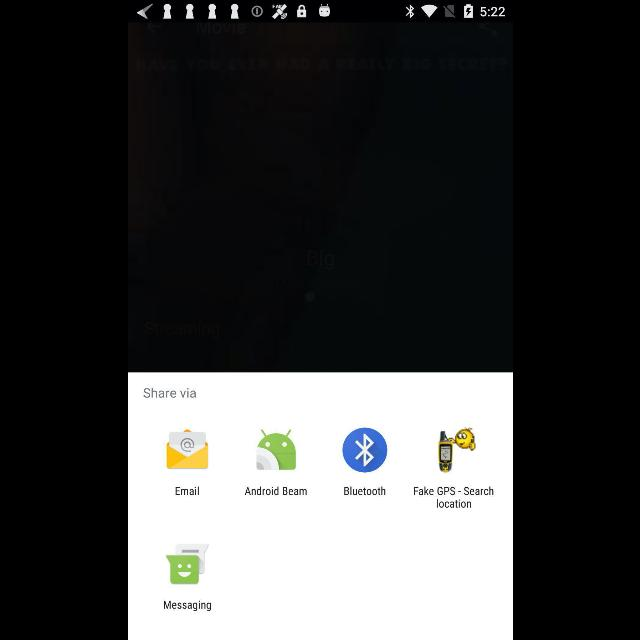icon: (342, 428, 386, 472)
image: (166, 542, 208, 584), (437, 427, 475, 473), (166, 429, 208, 469), (256, 430, 294, 470)
panel: (128, 372, 512, 640)
text: (413, 486, 493, 508), (244, 486, 306, 496), (163, 600, 211, 612), (142, 388, 195, 398), (344, 486, 384, 496), (175, 486, 199, 496)
uppertaskbar: (128, 1, 512, 23)
